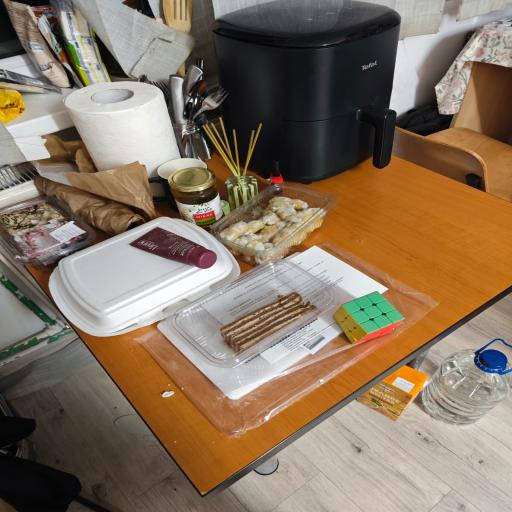Crema Maini: (129, 226, 217, 272)
Rubiks Cube: (334, 290, 404, 350)
Super Glue: (267, 158, 289, 192)
